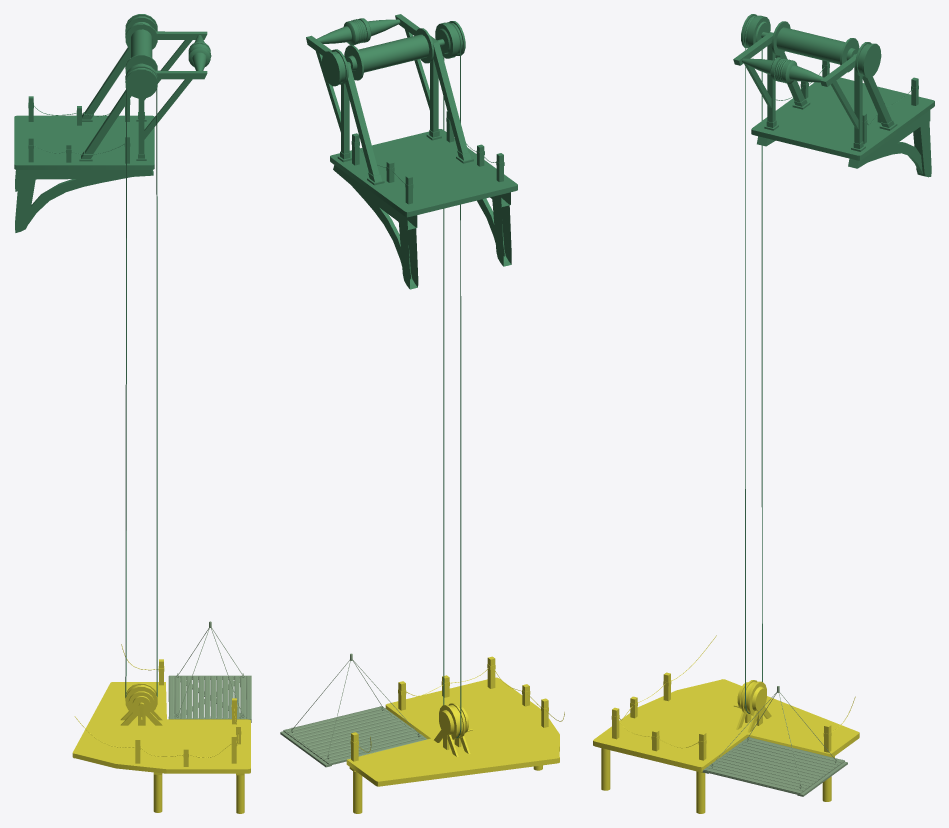
Rendered from newPasserelle_low.fbx.
3 renders of one model, left to right at view 1: azimuth 30°, elevation 25°; view 2: azimuth 150°, elevation 25°; view 3: azimuth 270°, elevation 25°, orthographic. The views are drawn at different scales.
Parts seen in each view (by area): view 1: platformz_low, solpasrlhaute_low, platplanche_low, cordePasrlll_low, poutrasse2_low, boisparlht_low, poutrasse6_low, pierrepasrl_low, poutrasse9_low, poutrasse1_low, rond_low, potobas_low (+4 smaller); view 2: platformz_low, solpasrlhaute_low, platplanche_low, poutrasse6_low, poutrasse2_low, cordePasrlll_low, boisparlht_low, metalzz_low, poteaubas_low, piquetpasrlhaute_low, pierrepasrl_low, poutrasse9_low (+3 smaller); view 3: platformz_low, solpasrlhaute_low, platplanche_low, boisparlht_low, cordePasrlll_low, poutrasse6_low, poutrasse2_low, metalzz_low, poteaubas_low, potobas_low, pierrepasrl_low, poutrasse1_low (+3 smaller).
Boxes of the visible parts, x1=… form: platformz_low: x1=72, y1=682, x2=250, y2=773; solpasrlhaute_low: x1=14, y1=115, x2=154, y2=169; platplanche_low: x1=168, y1=676, x2=251, y2=720; cordePasrlll_low: x1=34, y1=43, x2=211, y2=697; poutrasse2_low: x1=84, y1=40, x2=192, y2=153; boisparlht_low: x1=125, y1=14, x2=157, y2=98; poutrasse6_low: x1=15, y1=98, x2=144, y2=232; pierrepasrl_low: x1=18, y1=169, x2=153, y2=180; poutrasse9_low: x1=28, y1=177, x2=131, y2=223; poutrasse1_low: x1=155, y1=31, x2=207, y2=79; rond_low: x1=125, y1=683, x2=157, y2=715; potobas_low: x1=153, y1=774, x2=244, y2=813; platformz_low: x1=346, y1=677, x2=559, y2=786; solpasrlhaute_low: x1=330, y1=129, x2=517, y2=217; platplanche_low: x1=283, y1=706, x2=427, y2=764; poutrasse6_low: x1=341, y1=58, x2=511, y2=289; poutrasse2_low: x1=316, y1=29, x2=468, y2=175; cordePasrlll_low: x1=351, y1=19, x2=496, y2=738; boisparlht_low: x1=322, y1=21, x2=465, y2=86; metalzz_low: x1=358, y1=34, x2=429, y2=72; poteaubas_low: x1=351, y1=656, x2=548, y2=761; piquetpasrlhaute_low: x1=352, y1=111, x2=503, y2=204; pierrepasrl_low: x1=333, y1=165, x2=510, y2=229; poutrasse9_low: x1=352, y1=186, x2=504, y2=279; platformz_low: x1=593, y1=679, x2=859, y2=771; solpasrlhaute_low: x1=751, y1=77, x2=934, y2=160; platplanche_low: x1=703, y1=737, x2=844, y2=793; boisparlht_low: x1=741, y1=14, x2=881, y2=77; cordePasrlll_low: x1=745, y1=15, x2=912, y2=713; poutrasse6_low: x1=767, y1=43, x2=931, y2=177; poutrasse2_low: x1=744, y1=32, x2=891, y2=128; metalzz_low: x1=776, y1=27, x2=845, y2=64; poteaubas_low: x1=612, y1=672, x2=831, y2=760; potobas_low: x1=601, y1=748, x2=831, y2=813; pierrepasrl_low: x1=757, y1=110, x2=930, y2=168; poutrasse1_low: x1=733, y1=35, x2=855, y2=86.
Size of the model in its own units: 1044 by 3099 by 1268.
